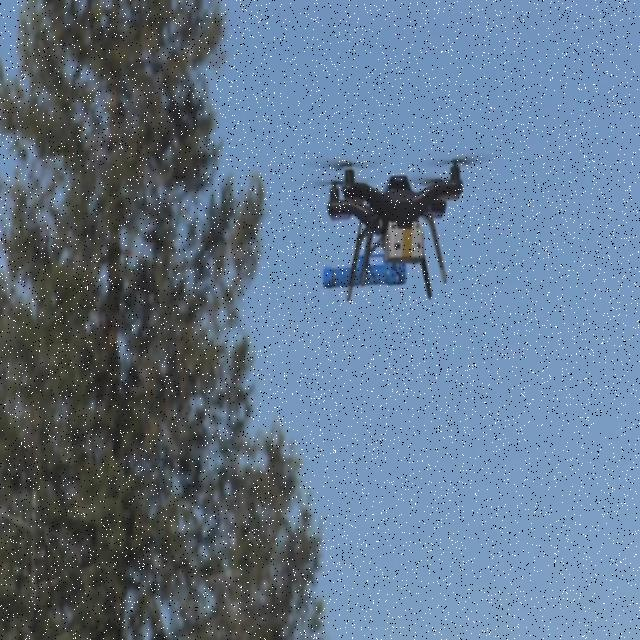UAV: (322, 156, 468, 302)
